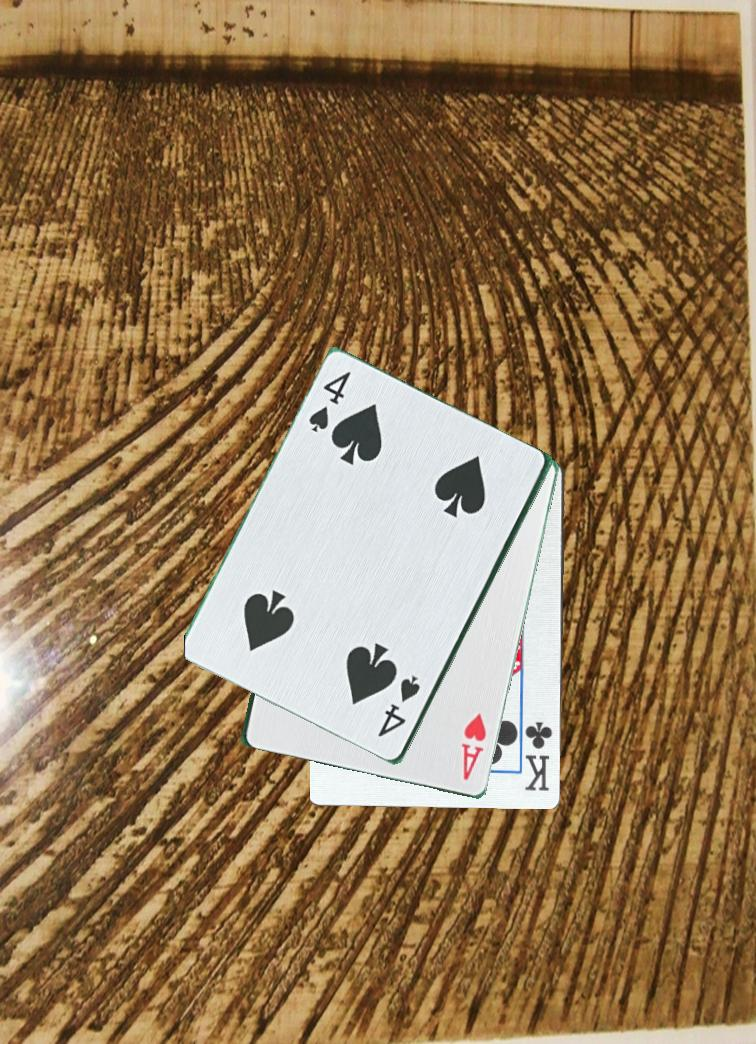4s: (305, 368, 354, 445), (374, 672, 424, 741)
ah: (458, 710, 490, 784)
kc: (522, 718, 557, 795)
